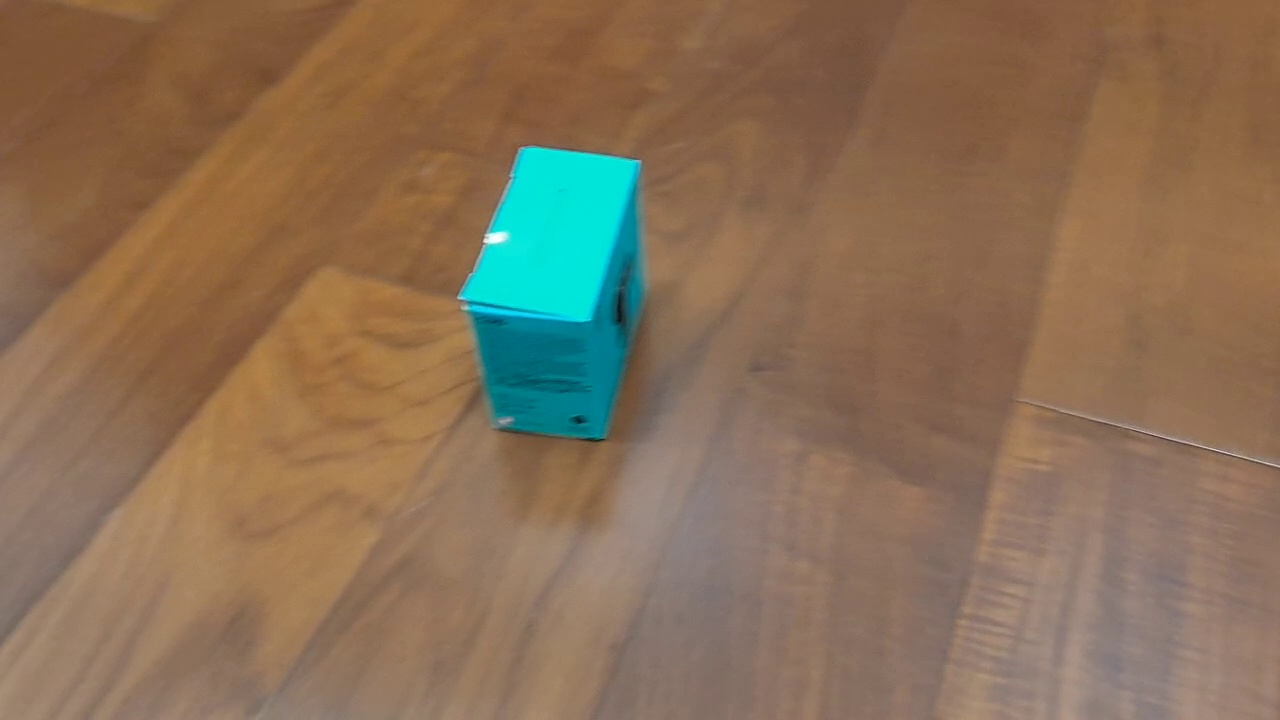webcam: (454, 145, 650, 444)
